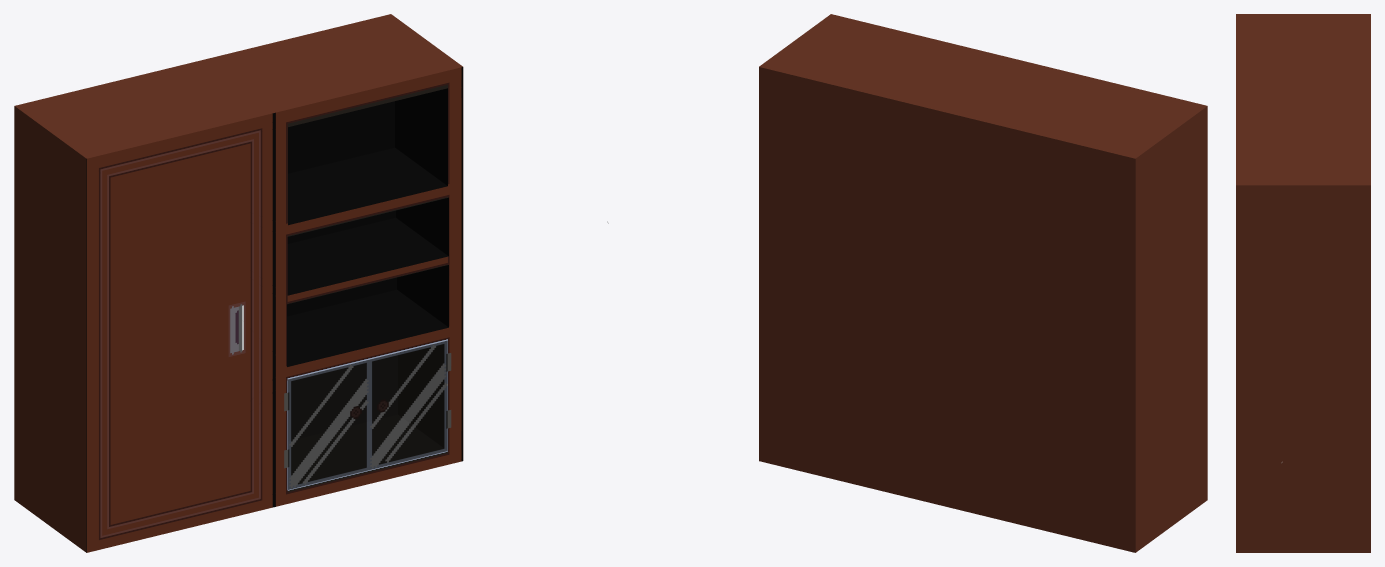
Rendered from bookshelf.fbx.
3 views of the same model, side by side, from view 1: azimuth 30°, elevation 25°; view 2: azimuth 150°, elevation 25°; view 3: azimuth 270°, elevation 25° (orthographic). The views are drawn at different scales.
Parts seen in each view (by area): view 1: Cube; view 2: Cube; view 3: Cube.
Part boxes in pixels (x1=…): Cube: x1=14, y1=14, x2=463, y2=552; Cube: x1=759, y1=14, x2=1207, y2=552; Cube: x1=1236, y1=14, x2=1370, y2=552.
Bounding box in the file's own units: 635 × 438 × 145.
4 materials, 2 textured.
